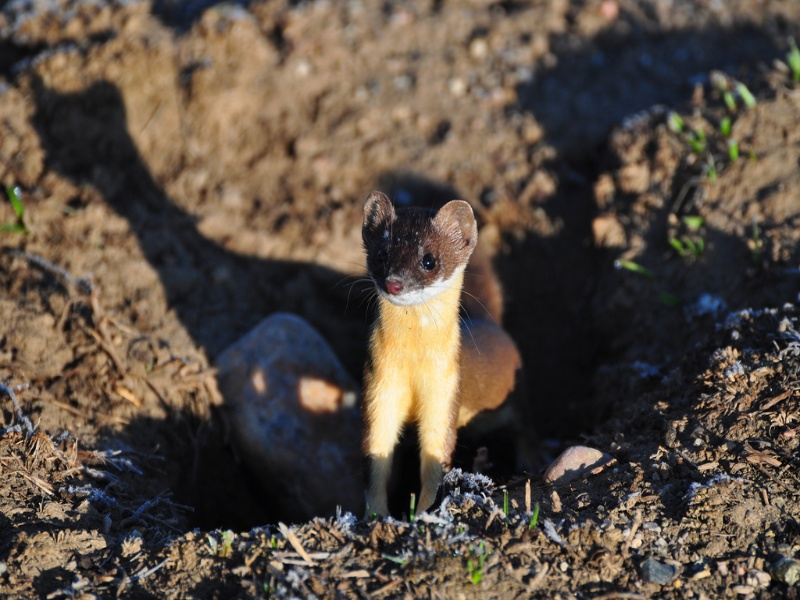minkish: (337, 190, 479, 533)
